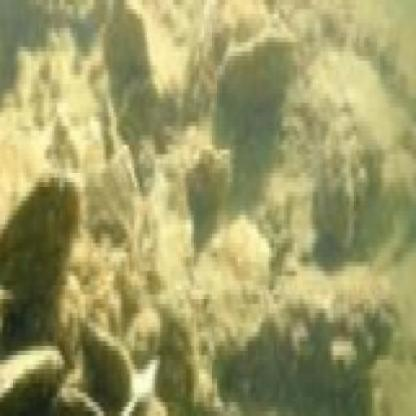Oyster-Closed: (0, 181, 79, 351), (213, 35, 299, 125), (0, 345, 63, 416)
Oyster-Open: (51, 333, 132, 416)
